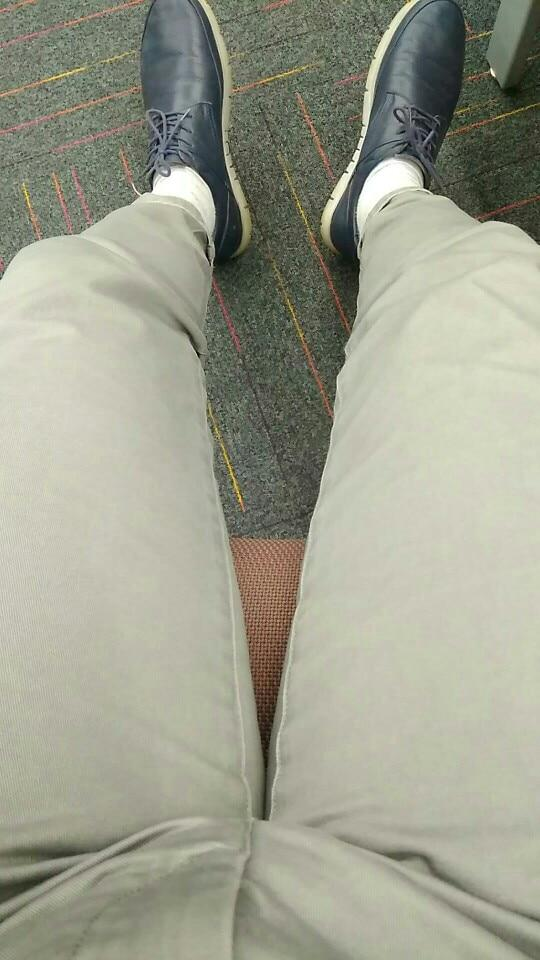pants: (3, 193, 538, 960)
